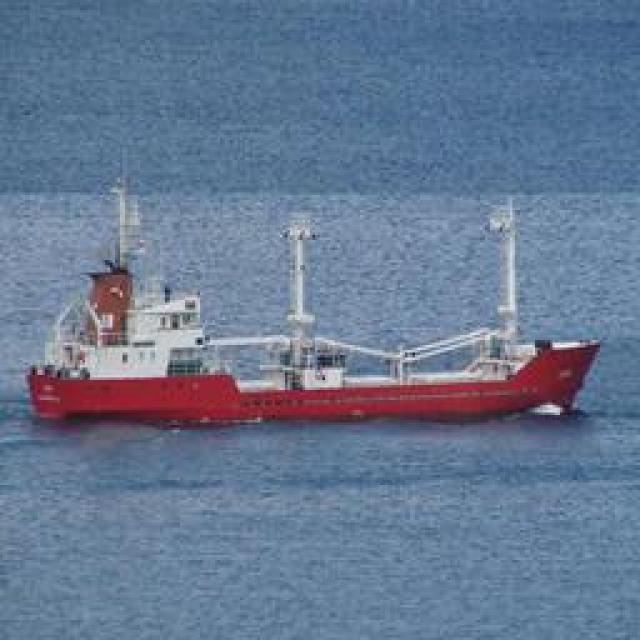CIV_Ship: (22, 198, 610, 420)
